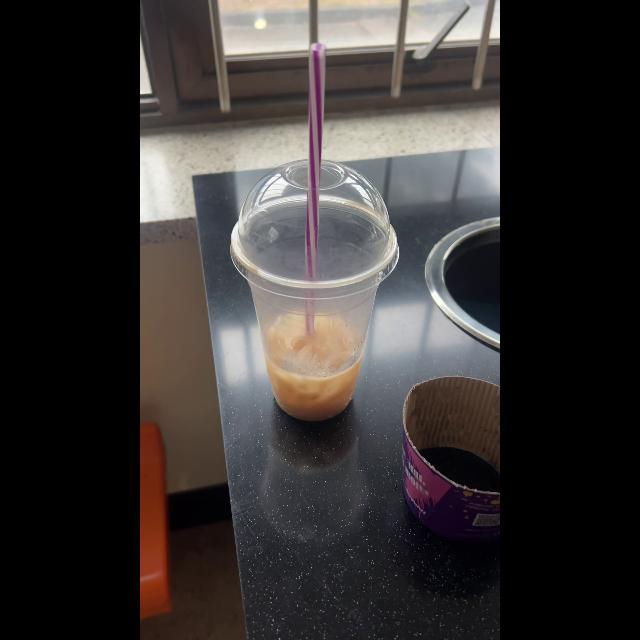dirty: (230, 162, 400, 414)
